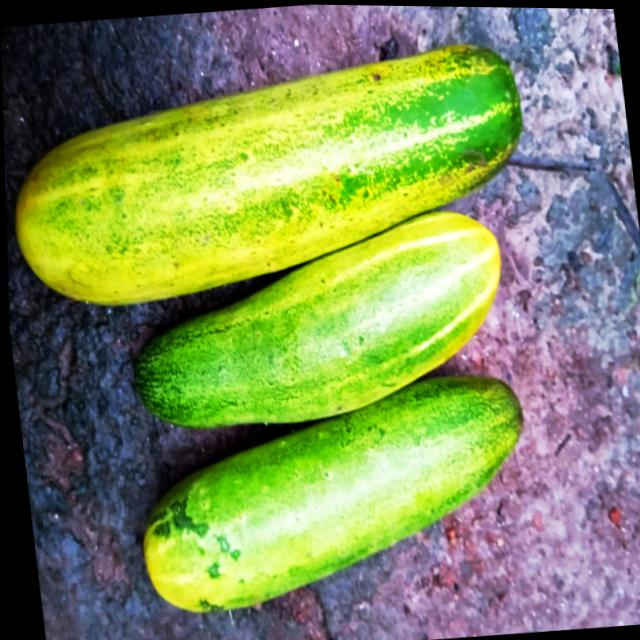Fresh-Cucumber: (1, 28, 543, 321), (119, 360, 541, 624), (112, 191, 518, 441)
